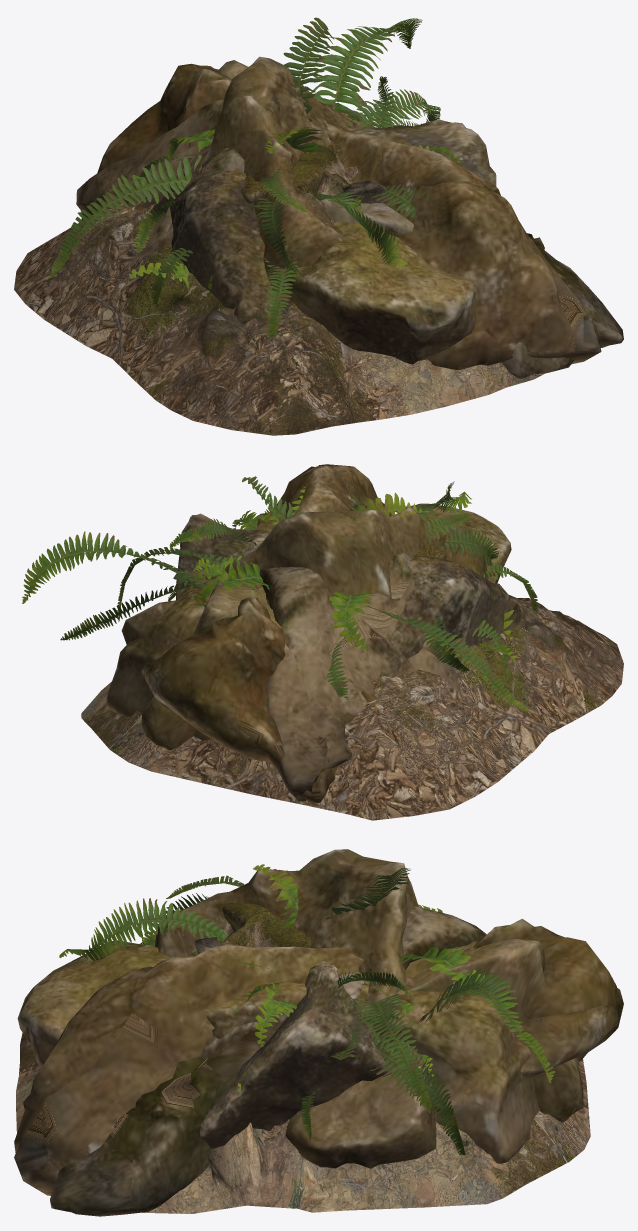
File: woodland-ground-cover.glb
The picture shows the model from 3 angles, top to bottom: view 1: azimuth 30°, elevation 25°; view 2: azimuth 150°, elevation 25°; view 3: azimuth 270°, elevation 25°; orthographic projection. The views are drawn at different scales.
Visible parts, largest first — view 1: tree_stump_01_0_LOD0, rock_moss_set_01_0_LOD0, fern_02_0_LOD0, rock_moss_set_01_4_LOD0, rock_moss_set_01_3_LOD0, rock_moss_set_01_2_LOD0, rock_moss_set_01_1_LOD0, fern_02_1_LOD0, rock_moss_set_01_5_LOD0, fern_02_2_LOD0; view 2: tree_stump_01_0_LOD0, rock_moss_set_01_1_LOD0, rock_moss_set_01_0_LOD0, rock_moss_set_01_3_LOD0, fern_02_0_LOD0, rock_moss_set_01_2_LOD0, rock_moss_set_01_4_LOD0, fern_02_1_LOD0, rock_moss_set_01_5_LOD0, fern_02_2_LOD0; view 3: rock_moss_set_01_0_LOD0, tree_stump_01_0_LOD0, rock_moss_set_01_3_LOD0, rock_moss_set_01_4_LOD0, rock_moss_set_01_1_LOD0, rock_moss_set_01_2_LOD0, fern_02_0_LOD0, rock_moss_set_01_5_LOD0, fern_02_1_LOD0, fern_02_2_LOD0.
Boxes of the visible parts, left/top/right/bottom form: tree_stump_01_0_LOD0: left=14, top=140, right=544, bottom=435; rock_moss_set_01_0_LOD0: left=81, top=63, right=601, bottom=370; fern_02_0_LOD0: left=48, top=17, right=461, bottom=338; rock_moss_set_01_4_LOD0: left=128, top=101, right=476, bottom=364; rock_moss_set_01_3_LOD0: left=202, top=56, right=362, bottom=300; rock_moss_set_01_2_LOD0: left=150, top=119, right=496, bottom=324; rock_moss_set_01_1_LOD0: left=76, top=99, right=623, bottom=378; fern_02_1_LOD0: left=129, top=112, right=434, bottom=288; rock_moss_set_01_5_LOD0: left=157, top=60, right=424, bottom=251; fern_02_2_LOD0: left=362, top=76, right=397, bottom=128; tree_stump_01_0_LOD0: left=81, top=506, right=623, bottom=820; rock_moss_set_01_1_LOD0: left=242, top=549, right=463, bottom=801; rock_moss_set_01_0_LOD0: left=141, top=464, right=391, bottom=802; rock_moss_set_01_3_LOD0: left=121, top=507, right=487, bottom=644; fern_02_0_LOD0: left=22, top=476, right=537, bottom=713; rock_moss_set_01_2_LOD0: left=175, top=513, right=527, bottom=677; rock_moss_set_01_4_LOD0: left=107, top=503, right=511, bottom=740; fern_02_1_LOD0: left=60, top=494, right=517, bottom=701; rock_moss_set_01_5_LOD0: left=141, top=504, right=454, bottom=750; fern_02_2_LOD0: left=169, top=518, right=256, bottom=548; rock_moss_set_01_0_LOD0: left=14, top=918, right=623, bottom=1195; tree_stump_01_0_LOD0: left=16, top=903, right=590, bottom=1213; rock_moss_set_01_3_LOD0: left=154, top=849, right=436, bottom=1168; rock_moss_set_01_4_LOD0: left=17, top=940, right=539, bottom=1163; rock_moss_set_01_1_LOD0: left=50, top=906, right=486, bottom=1216; rock_moss_set_01_2_LOD0: left=199, top=961, right=433, bottom=1148; fern_02_0_LOD0: left=59, top=864, right=555, bottom=1140; rock_moss_set_01_5_LOD0: left=203, top=939, right=583, bottom=1122; fern_02_1_LOD0: left=166, top=875, right=465, bottom=1155; fern_02_2_LOD0: left=333, top=970, right=414, bottom=1000.
Size of what is drawn, in the model's own units: 1.58 by 0.9638 by 1.68.
Materials: 3 (3 with a texture image).
